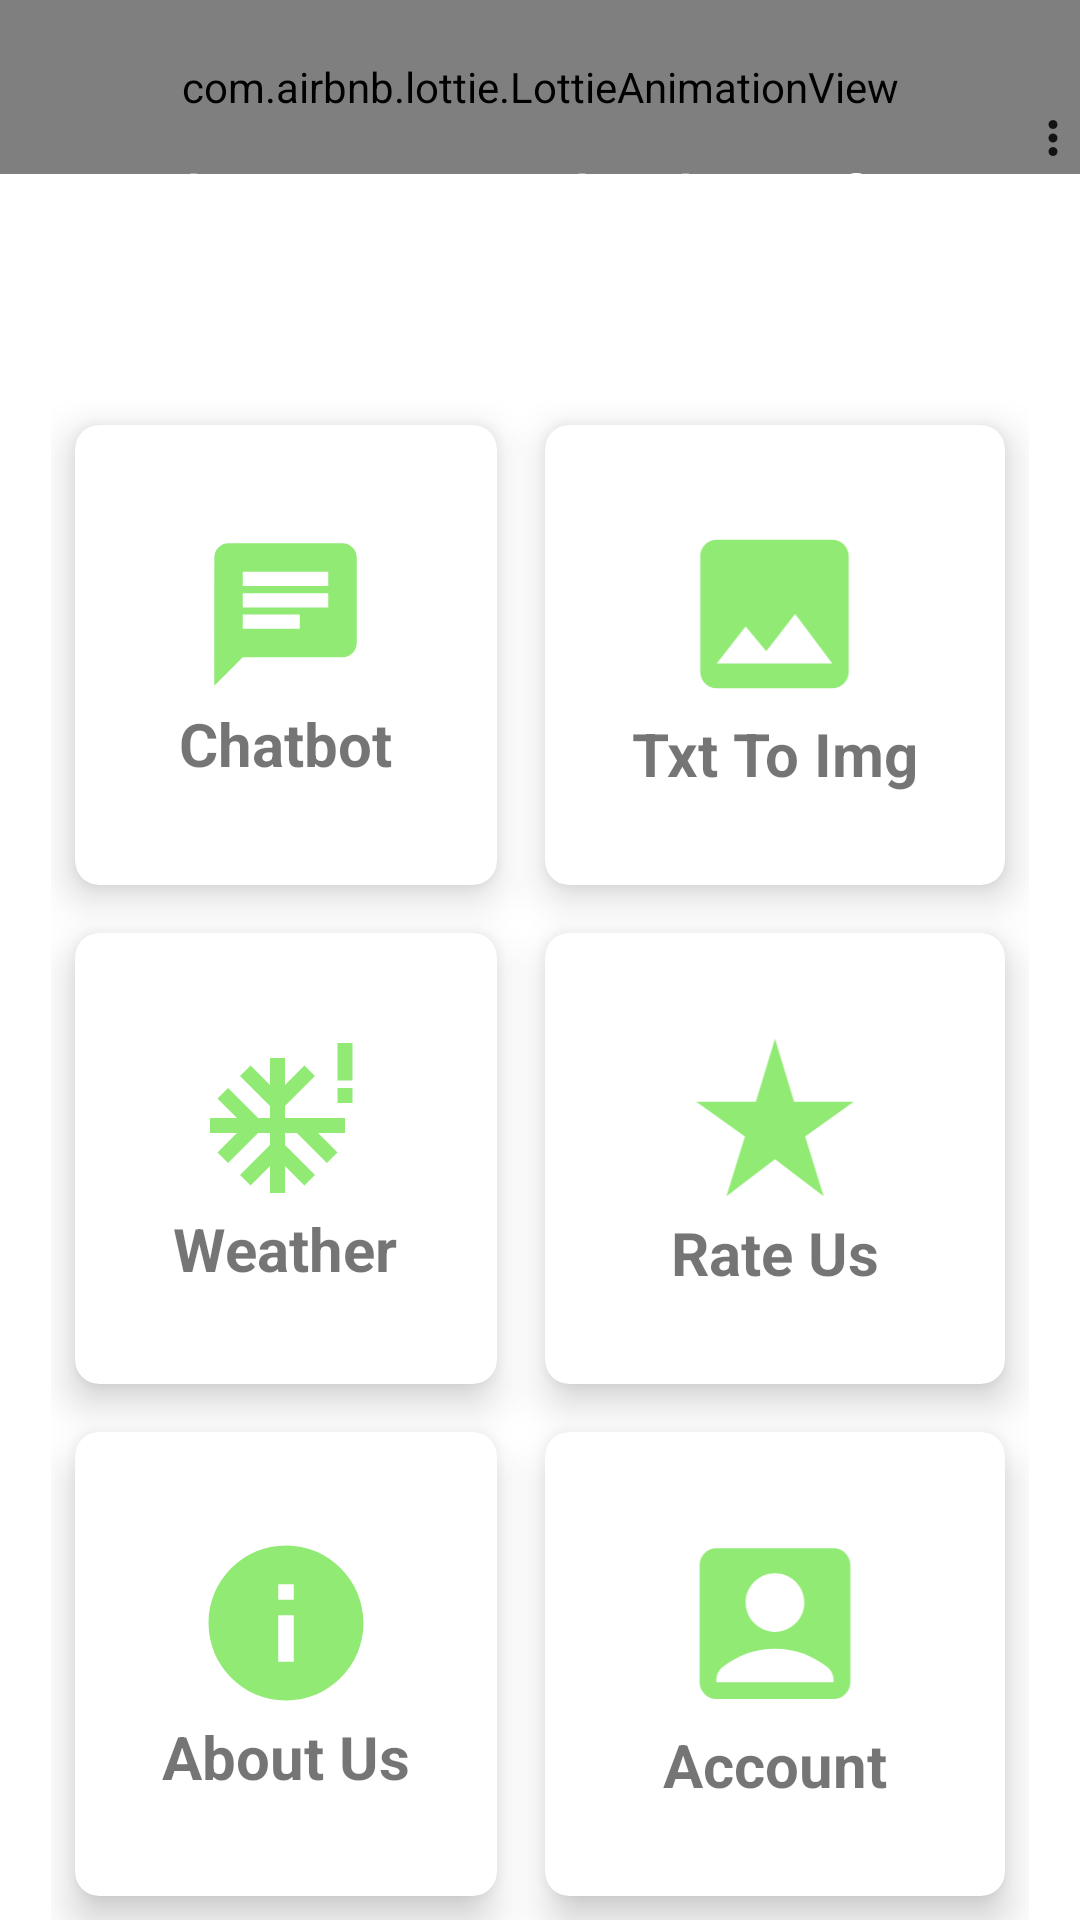

Point at icon controls on the screen. Image size 1080 x 1920, points as point (x, y).
info: point (286, 1623)
severe cold: point (281, 1118)
star rate: point (775, 1117)
